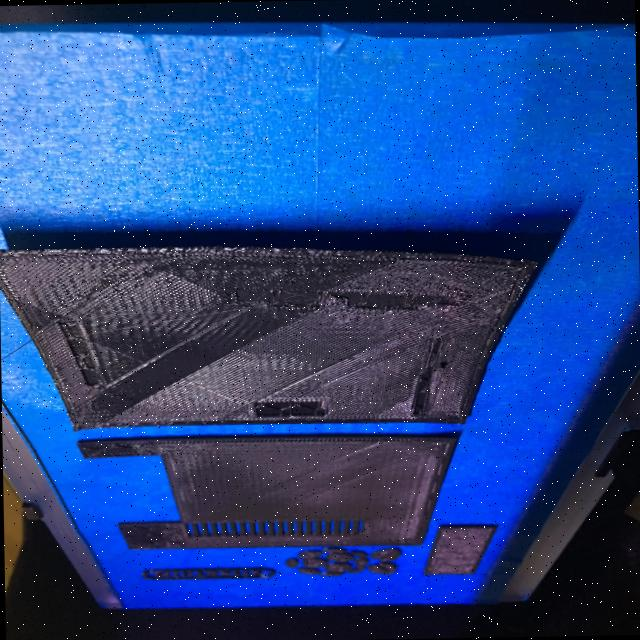stringing: (0, 227, 67, 320)
